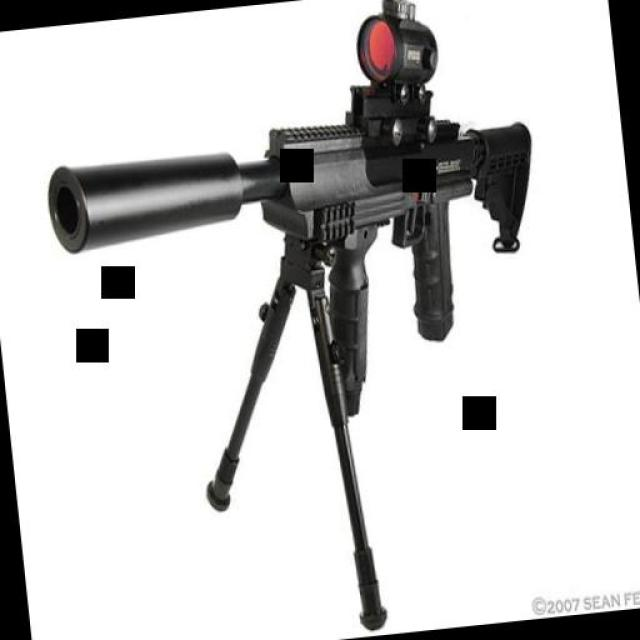gun: (252, 85, 492, 396)
